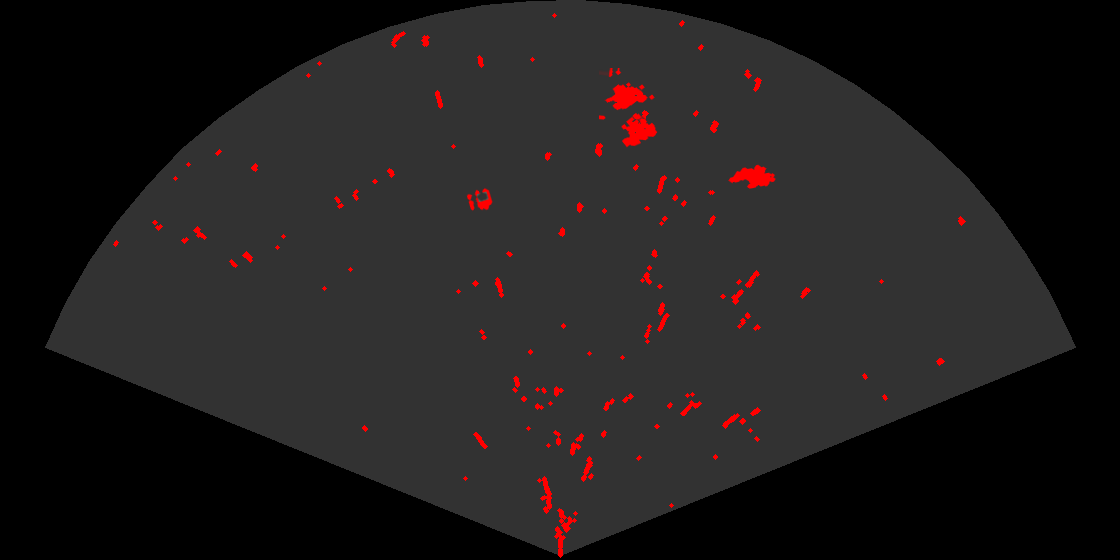AUV: (727, 163, 777, 190)
ball: (465, 186, 494, 213)
cage: (599, 68, 659, 149)
